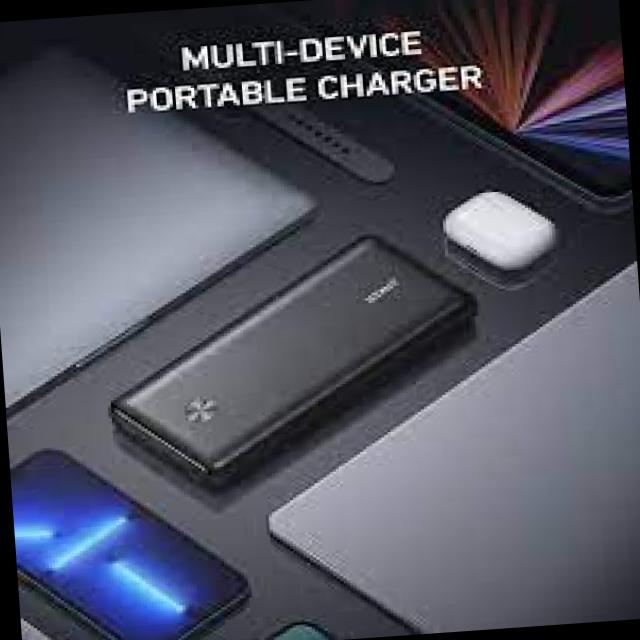power_bank: (92, 223, 500, 507)
